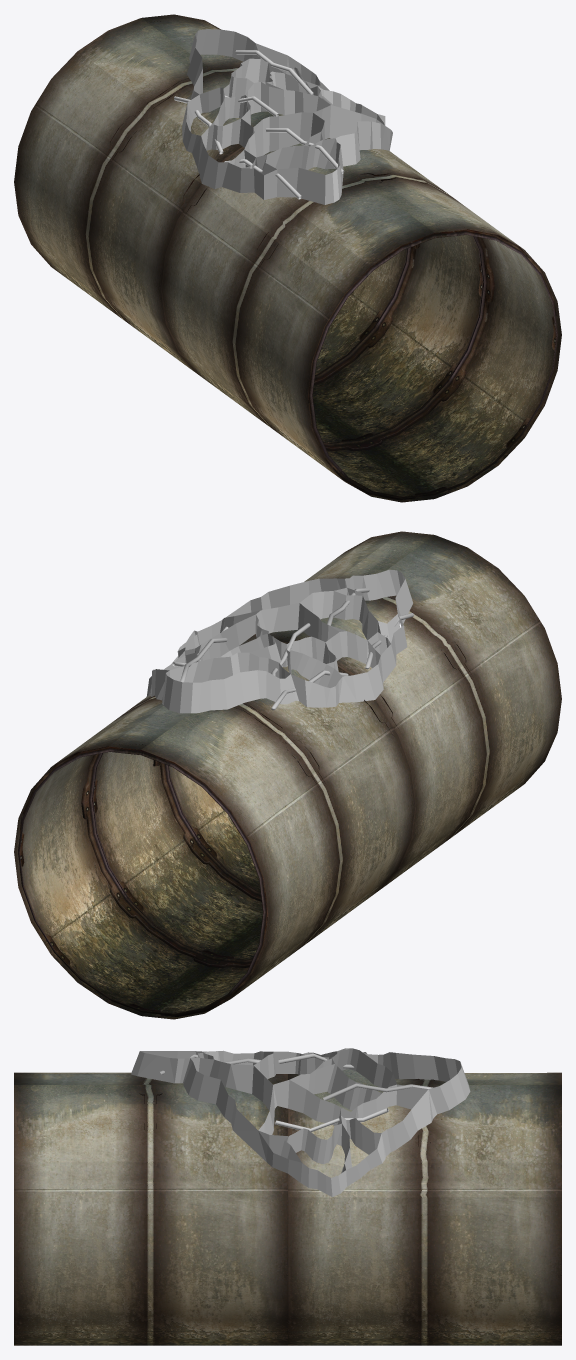
Rendered from flush_tunnel_02_07_straight_broken_roof.dae.
The picture shows the model from 3 angles, top to bottom: view 1: azimuth 30°, elevation 25°; view 2: azimuth 150°, elevation 25°; view 3: azimuth 270°, elevation 25°; orthographic projection. The views are drawn at different scales.
Parts seen in each view (by area): view 1: polySurface1290, polySurface1284, polySurface1299; view 2: polySurface1290, polySurface1284, polySurface1299; view 3: polySurface1290, polySurface1284, polySurface1299.
Part boxes in pixels (x1,y1,x2,y2): polySurface1290: [14, 14, 561, 502]; polySurface1284: [182, 29, 392, 204]; polySurface1299: [174, 50, 344, 199]; polySurface1290: [14, 531, 561, 1019]; polySurface1284: [146, 569, 412, 713]; polySurface1299: [172, 588, 413, 710]; polySurface1290: [14, 1069, 561, 1345]; polySurface1284: [131, 1048, 470, 1197]; polySurface1299: [160, 1053, 433, 1131].
Size of the model in its own units: 4 by 4.45 by 8.
